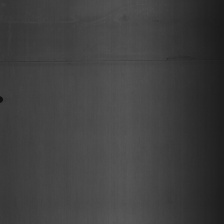punching_hole: (0, 54, 222, 69), (0, 91, 4, 107)
